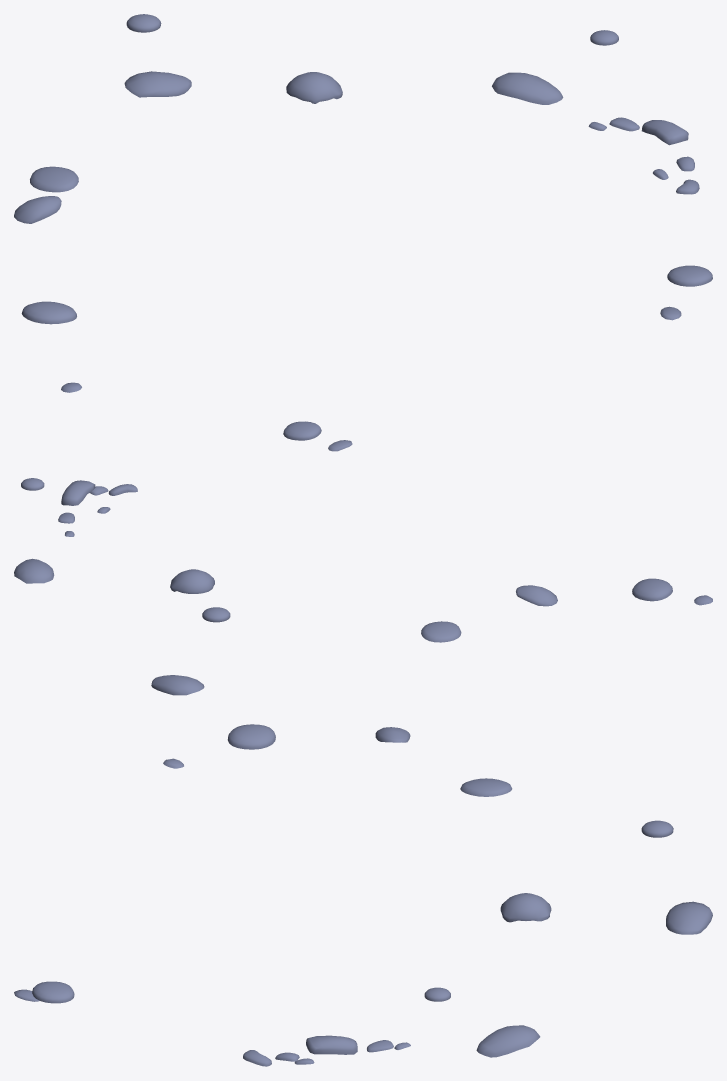
3 renders of one model, top to bottom at view 1: azimuth 30°, elevation 25°; view 2: azimuth 150°, elevation 25°; view 3: azimuth 270°, elevation 25°, orthographic. The views are drawn at different scales.
Parts seen in each view (by area): view 1: wk_s_52; view 2: wk_s_52; view 3: wk_s_52.
Part boxes in pixels (x1=…): wk_s_52: x1=14, y1=14, x2=712, y2=392; wk_s_52: x1=14, y1=421, x2=712, y2=695; wk_s_52: x1=14, y1=724, x2=712, y2=1066.
Size of the model in its own units: 41.07 by 38.12 by 5.6.
